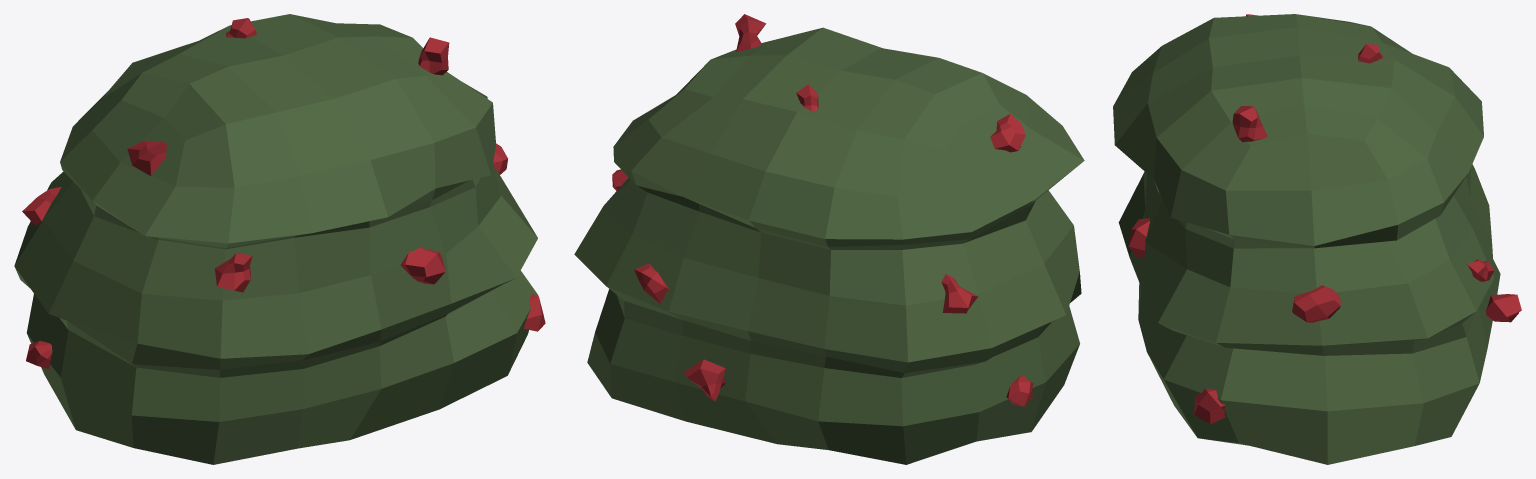
File: bushberries_4.gltf
3 renders of one model, left to right at view 1: azimuth 30°, elevation 25°; view 2: azimuth 150°, elevation 25°; view 3: azimuth 270°, elevation 25°, orthographic. The views are drawn at different scales.
Parts seen in each view (by area): view 1: bushberries_4; view 2: bushberries_4; view 3: bushberries_4.
Part boxes in pixels (x1,y1,x2,y2): bushberries_4: (14, 14, 545, 464); bushberries_4: (574, 14, 1084, 464); bushberries_4: (1113, 14, 1521, 464).
Bounding box in the file's own units: 1.72 × 1.28 × 1.39.
Materials: 1 (1 with a texture image).
